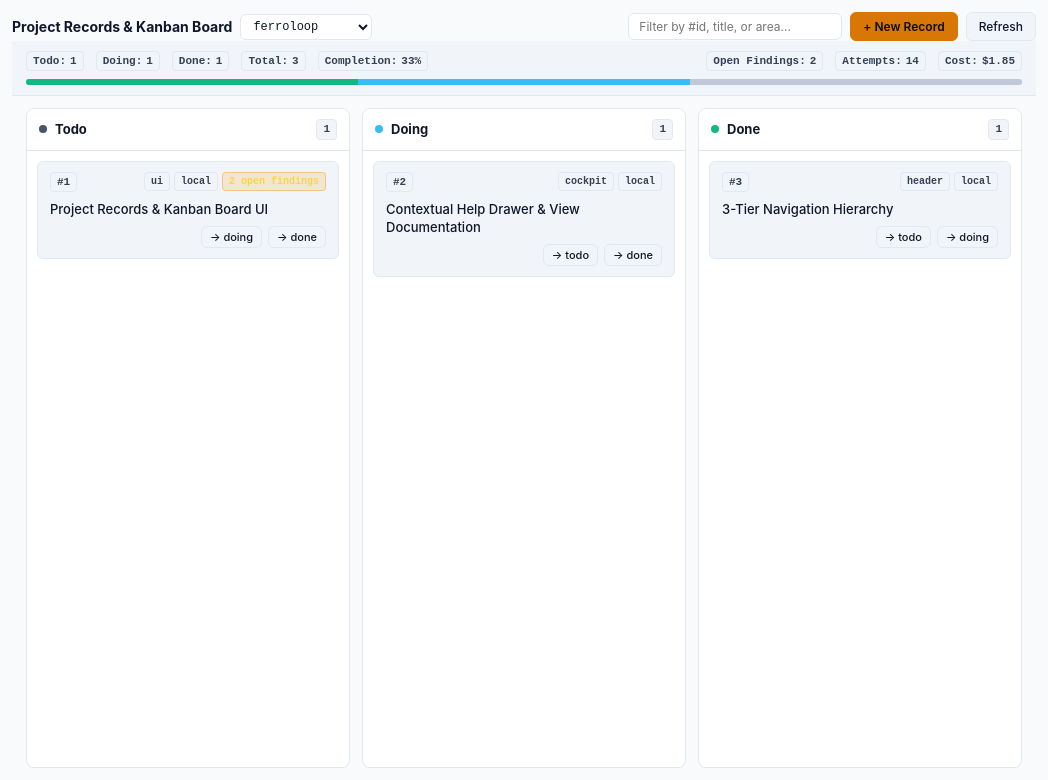
Wave B UI — Record 1: RecordsBoardPane Kanban Swimlanes & Velocity Strip › opens create-record-form via board-new-record-btn and creates a new record
Expected: the element with test id "record-card-1" is shown, [37,161,339,259]
Click the button with test id "board-new-record-btn".
click(904, 26)  # box [850,12,958,41]
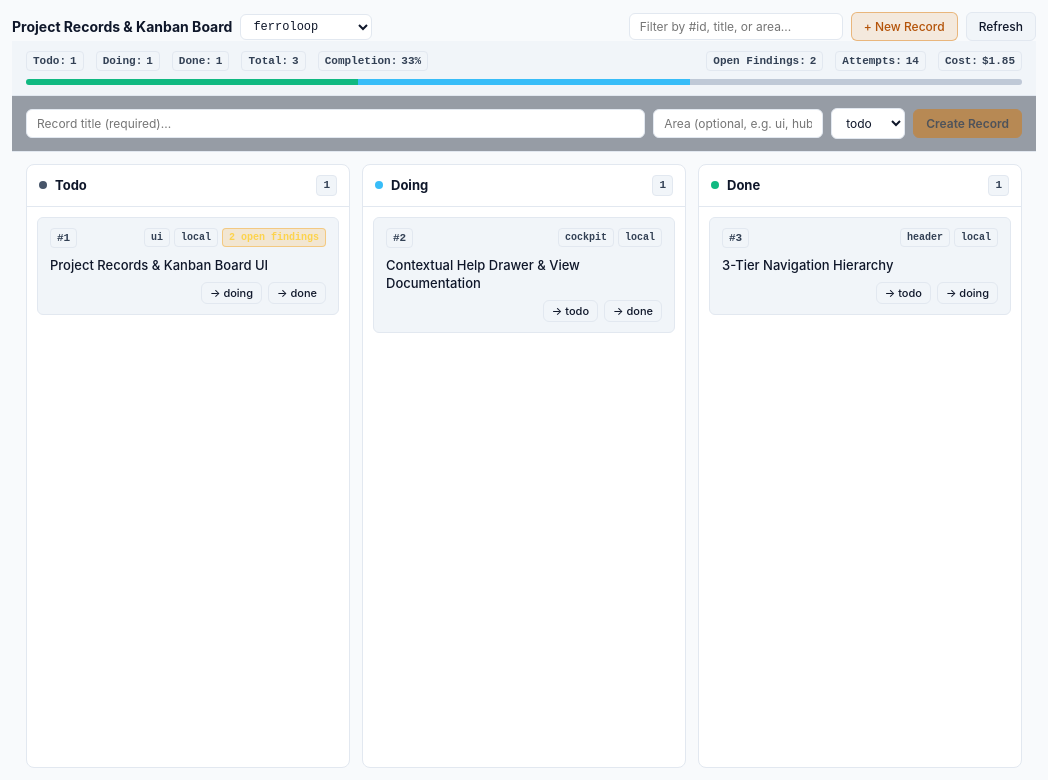
Expected: the form with test id "create-record-form" is shown, [12,96,1036,152]
Type "Artifact Dead-Path Pruning" into the field with test id "new-record-title-input".
click(336, 124); type("Artifact Dead-Path Pruning")  # box [26,109,645,138]
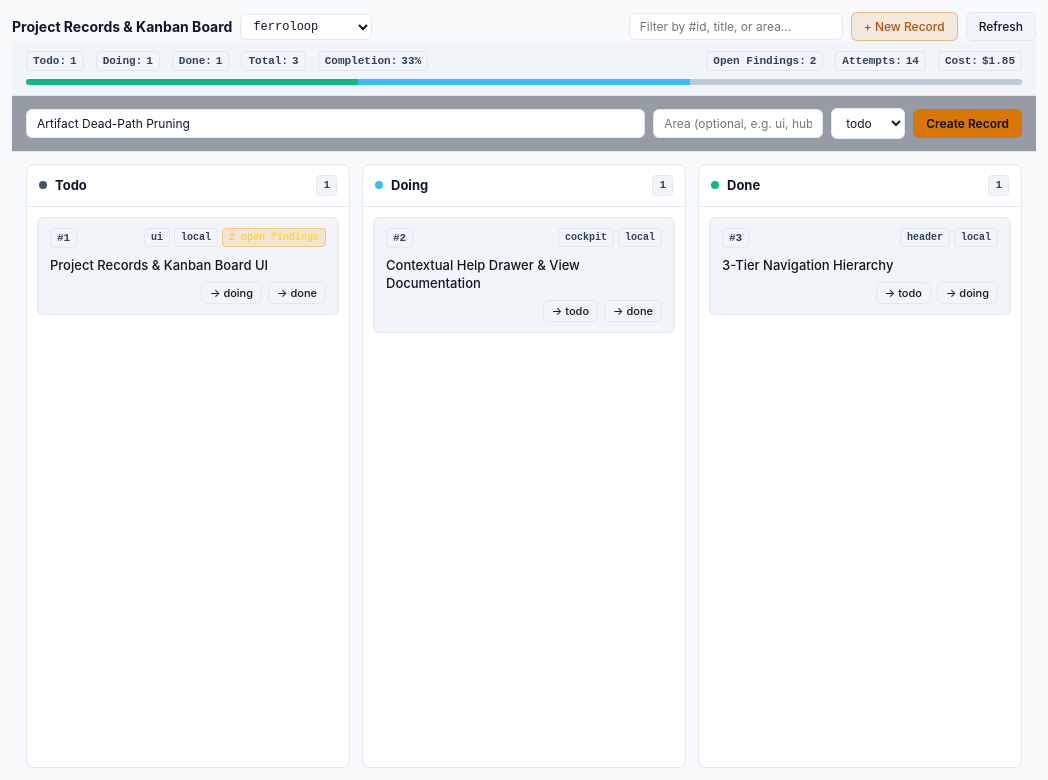
Type "artifacts" into the field with test id "new-record-area-input".
click(738, 124); type("artifacts")  # box [653,109,823,138]
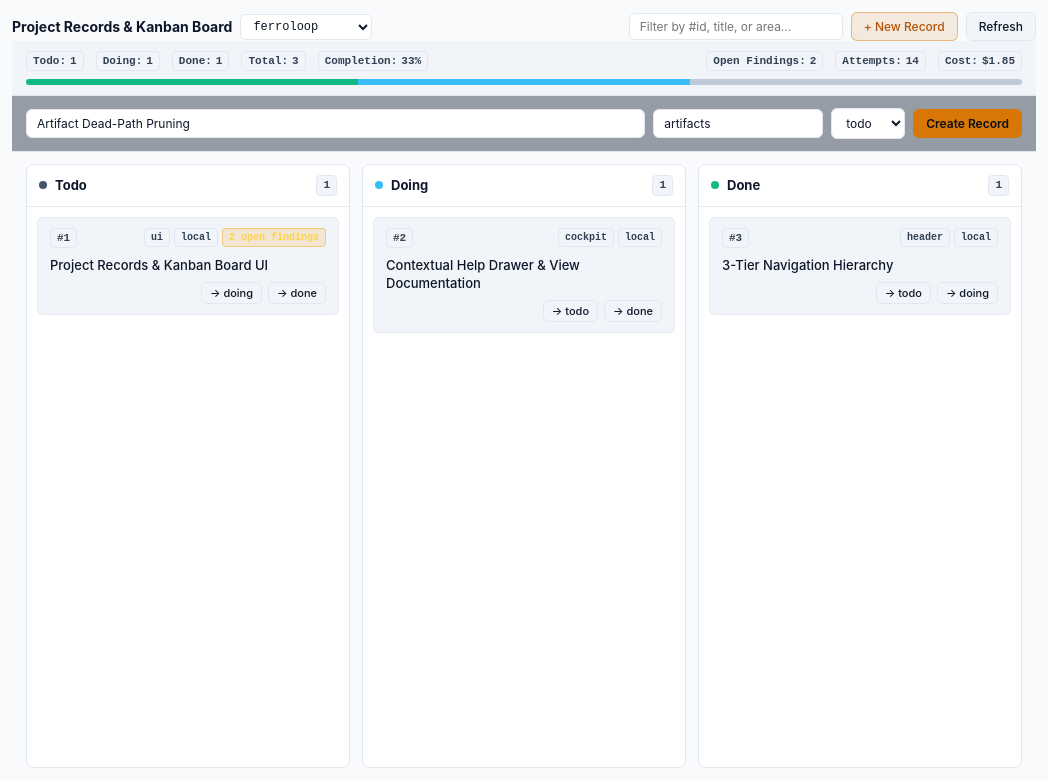
Select "doing" in the dropdown with test id "new-record-state-select" at {"x": 868, "y": 124}, box [831,108,905,139]
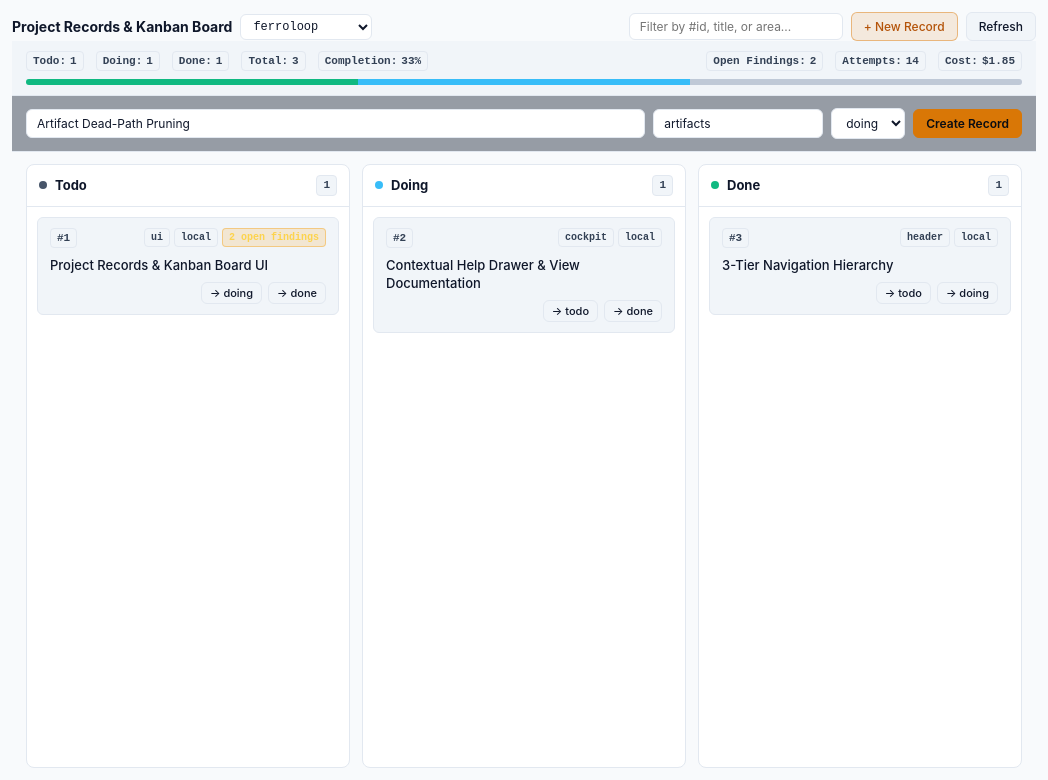
Click the button with test id "submit-new-record-btn".
click(968, 124)  # box [913,109,1022,138]
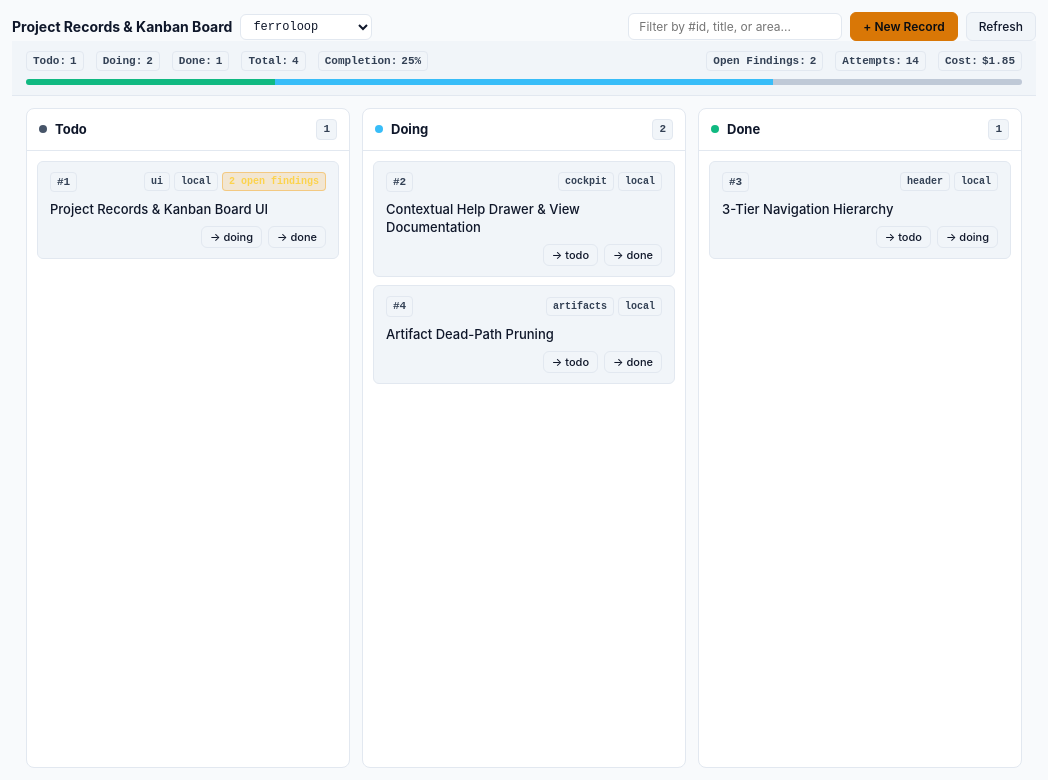
Expected: the element with test id "record-card-4" is shown, [373,285,675,384]
Expected: the form with test id "create-record-form" is gone
